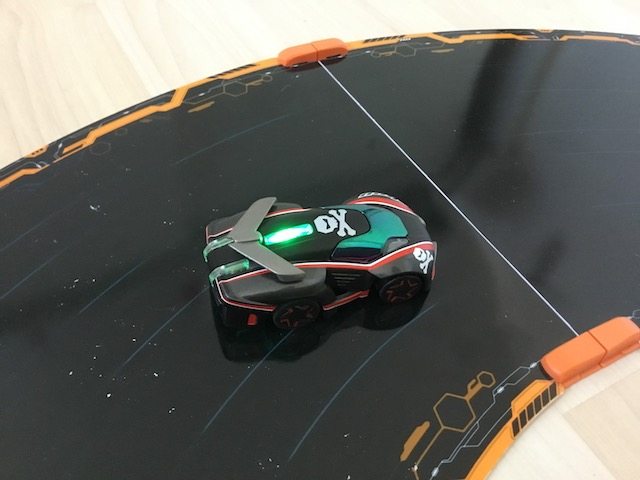car-red: (201, 188, 439, 334)
